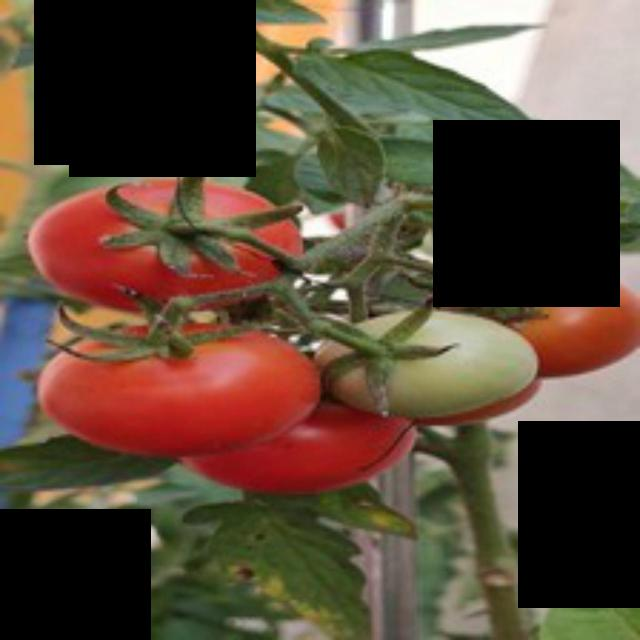tomato: (15, 166, 340, 312), (31, 322, 342, 446)
